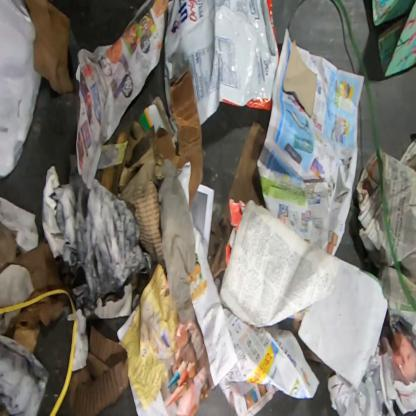cardboard: (95, 67, 202, 263), (69, 325, 130, 415), (373, 0, 415, 78), (283, 40, 318, 121), (7, 320, 41, 355)
soft_plastic: (164, 0, 280, 126), (0, 1, 41, 177)
